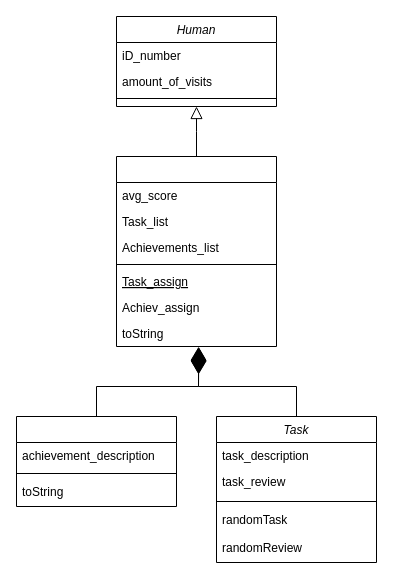
The diagram is 393 pixels wide and 579 high, and some of its shapes have lost their labels. The shapes that lost their labels are listed below. From the top down, each one's box as (x1, y1, x2, y2) in pixels, then its label:
(116, 156, 276, 346): Student
(16, 416, 176, 506): Achuevement
